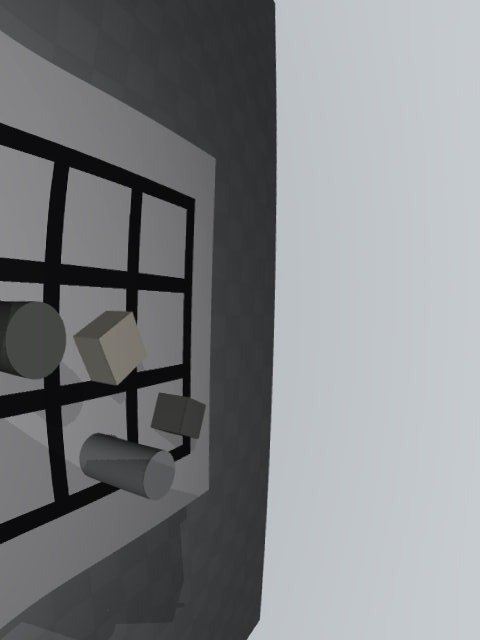can: (79, 433, 175, 501)
cube: (150, 393, 206, 439)
cylinder: (0, 301, 66, 380)
foam: (73, 311, 147, 386)
